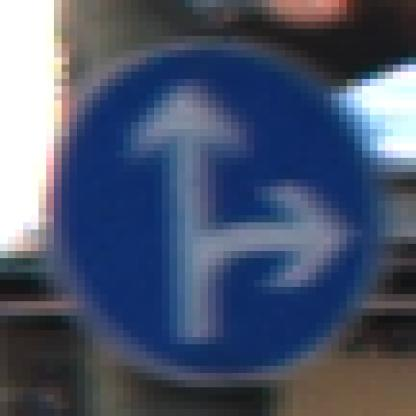Straight or Right: (47, 37, 379, 381)
